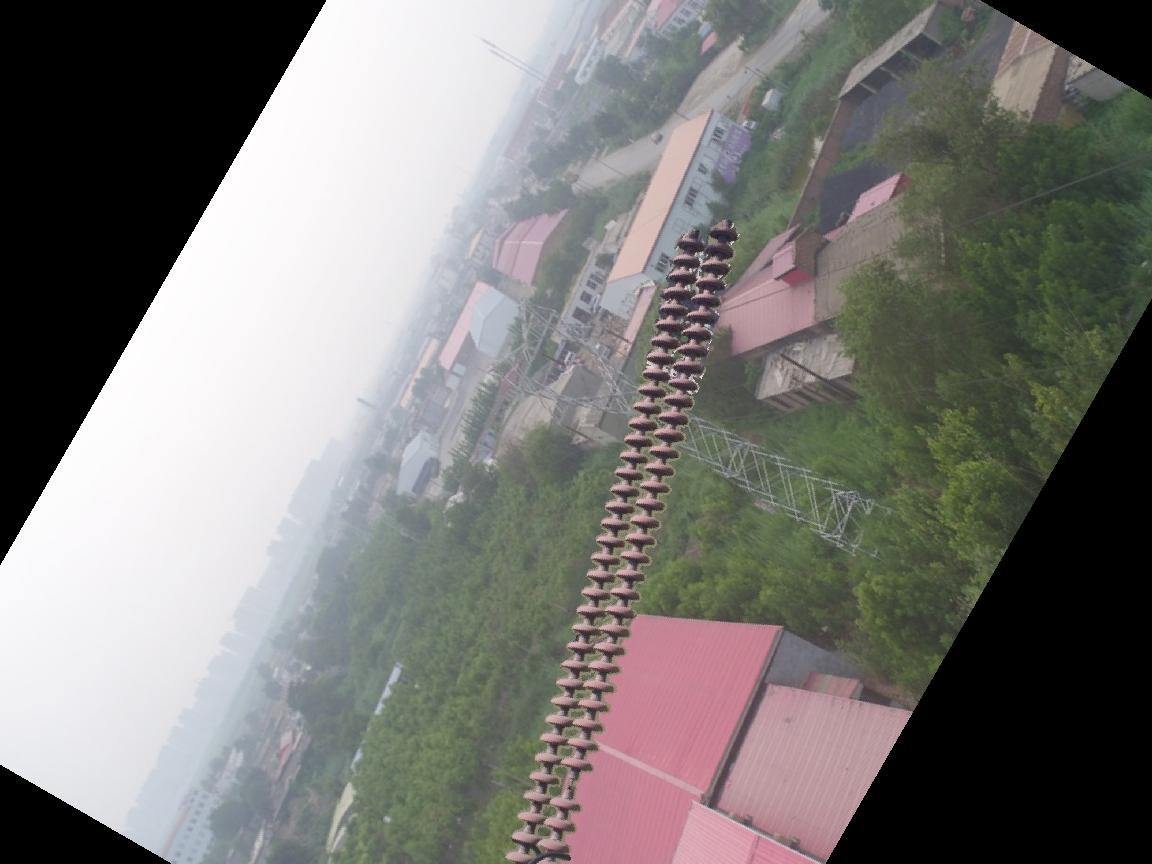insulator: (501, 216, 742, 864)
insulator_stringdrop: (547, 752, 598, 816)
